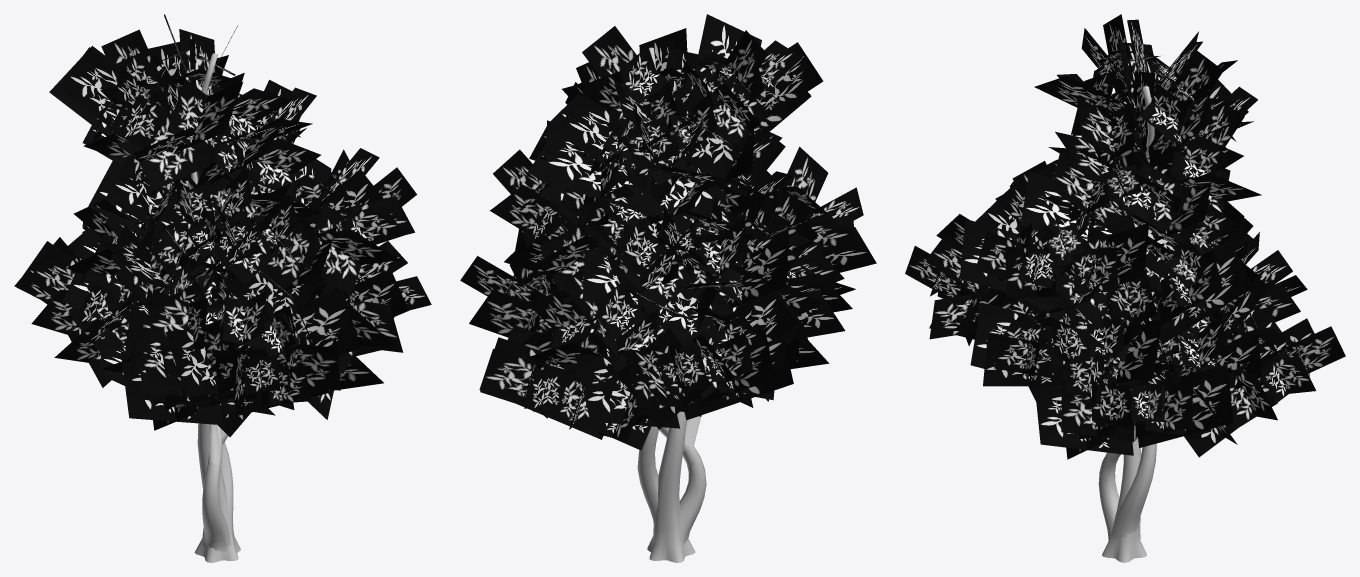
The model's file is Tree.fbx.
The picture shows the model from 3 angles, left to right: view 1: azimuth 30°, elevation 25°; view 2: azimuth 150°, elevation 25°; view 3: azimuth 270°, elevation 25°; orthographic projection. The views are drawn at different scales.
Visible parts, largest first — view 1: illustration2_1, _0; view 2: illustration2_1, _0; view 3: illustration2_1, _0.
Part boxes in pixels (x1,y1,x2,y2): illustration2_1: [14, 14, 431, 437]; _0: [183, 53, 240, 562]; illustration2_1: [460, 14, 876, 450]; _0: [562, 47, 706, 562]; illustration2_1: [905, 14, 1345, 459]; _0: [1098, 85, 1172, 562].
Size of the model in its own units: 324 by 494 by 397.
1 material, 1 textured.
